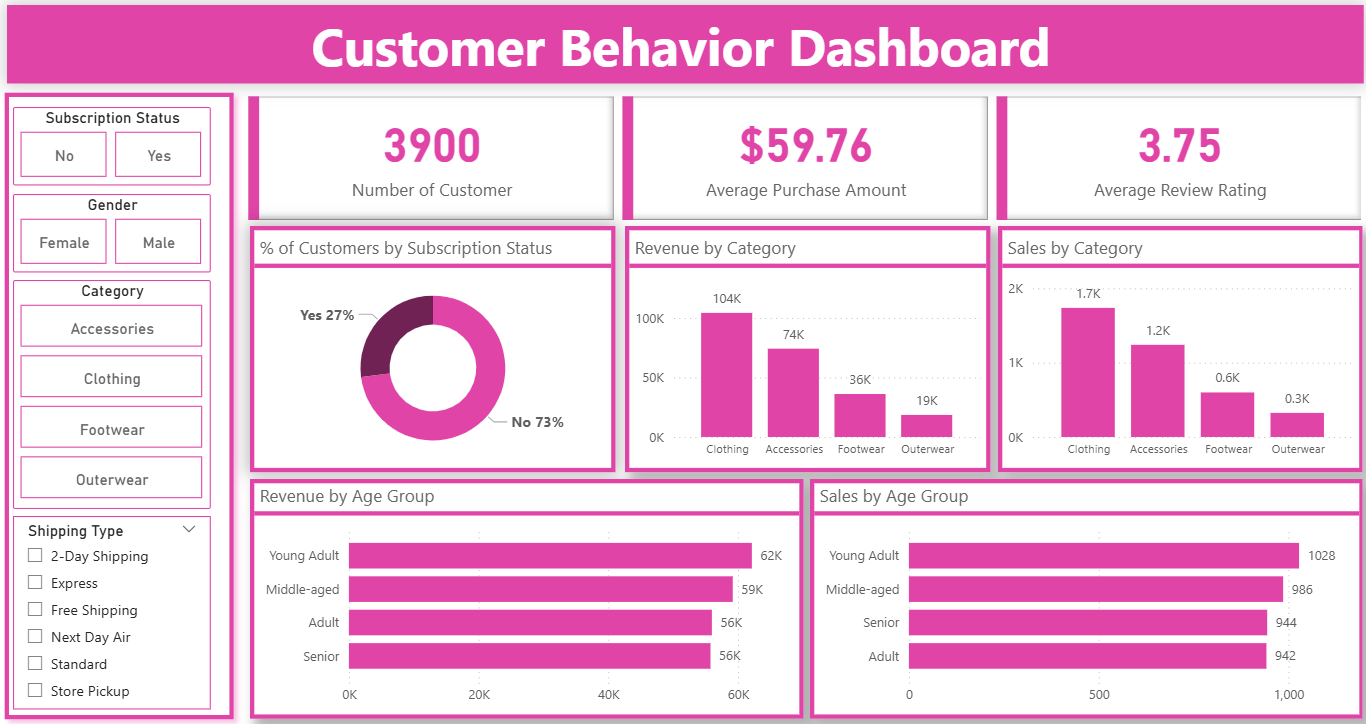

Layout of this report page (visuals, bound fields, positions):
{"tool":"powerbi","page":{"name":"Page 1","canvas":[1280,720],"ordinal":0},"visuals":[{"type":"cardVisual","fields":{"Data":["public customer.number_of_customer","public customer.average_purchase_amount","public customer.average_review_rating"]},"box":[231,89.6,1048.7,125.4],"z":0},{"type":"textbox","box":[10.7,9,1262.7,72.5],"z":1000},{"type":"donutChart","title":"% of Customers by Subscription Status","fields":{"Category":["public customer.subscription_status"],"Y":["CountNonNull(public customer.customer_id)"]},"box":[237.3,214.9,340.3,229.3],"z":2000},{"type":"columnChart","title":"Revenue by Category","fields":{"Category":["public customer.category"],"Y":["Sum(public customer.purchase_amount)"]},"box":[585.7,214.9,340.3,229.3],"z":3000},{"type":"columnChart","title":"Sales by Category","fields":{"Category":["public customer.category"],"Y":["CountNonNull(public customer.customer_id)"]},"box":[933.1,214.9,340.3,229.3],"z":4000},{"type":"shape","box":[0,81.5,231,600.9],"z":5000},{"type":"advancedSlicerVisual","title":"Subscription Status","fields":{"Values":["public customer.subscription_status"]},"box":[17,103.9,183.6,72.5],"z":6000},{"type":"advancedSlicerVisual","title":"Gender","fields":{"Values":["public customer.gender"]},"box":[17,185.4,183.6,72.5],"z":7000},{"type":"advancedSlicerVisual","title":"Category","fields":{"Values":["public customer.category"]},"box":[17,265.1,183.6,213.1],"z":8000},{"type":"slicer","fields":{"Values":["public customer.shipping_type"]},"box":[17,484.5,183.6,180],"z":9000},{"type":"clusteredBarChart","title":"Revenue by Age Group","fields":{"Y":["Sum(public customer.purchase_amount)"],"Category":["public customer.age_group"]},"box":[237.3,450.4,515,223],"z":10000},{"type":"clusteredBarChart","title":"Sales by Age Group","fields":{"Category":["public customer.age_group"],"Y":["CountNonNull(public customer.customer_id)"]},"box":[758.5,450.4,514.9,223],"z":11000}]}

Visuals, with their boxes on the page's 1280x720 design canvas (x1, y1, x2, y2). These are canvas units, not pixel positions in the 1366x724 screenshot, which may show the page scaled, cropped or inside an application window:
cardVisual - public customer.number_of_customer x public customer.average_purchase_amount: region(231, 90, 1280, 215)
textbox: region(11, 9, 1273, 82)
"% of Customers by Subscription Status" donutChart: region(237, 215, 578, 444)
"Revenue by Category" columnChart: region(586, 215, 926, 444)
"Sales by Category" columnChart: region(933, 215, 1273, 444)
shape: region(0, 82, 231, 682)
"Subscription Status" advancedSlicerVisual: region(17, 104, 201, 176)
"Gender" advancedSlicerVisual: region(17, 185, 201, 258)
"Category" advancedSlicerVisual: region(17, 265, 201, 478)
slicer - public customer.shipping_type: region(17, 484, 201, 664)
"Revenue by Age Group" clusteredBarChart: region(237, 450, 752, 673)
"Sales by Age Group" clusteredBarChart: region(758, 450, 1273, 673)
